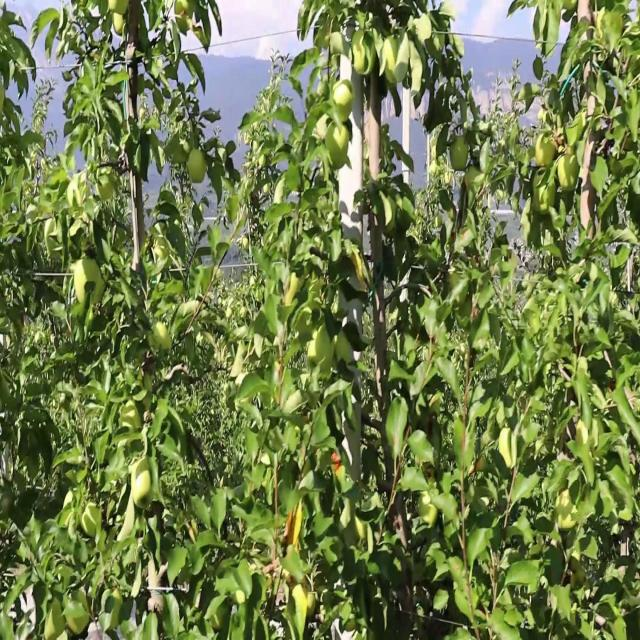apple: (384, 35, 410, 82), (352, 35, 377, 78), (284, 504, 304, 551), (288, 575, 309, 619), (560, 149, 580, 192), (572, 419, 599, 450), (332, 85, 355, 121), (132, 462, 152, 503), (328, 120, 352, 151), (532, 184, 556, 215), (188, 149, 208, 185), (536, 135, 556, 171), (152, 319, 172, 354), (68, 177, 86, 215), (452, 135, 469, 172), (172, 135, 191, 167), (176, 7, 195, 36), (284, 277, 302, 306), (372, 78, 386, 114), (44, 611, 61, 639), (328, 149, 349, 171), (412, 56, 424, 92), (128, 1, 144, 27), (384, 71, 399, 98), (580, 1, 595, 27), (112, 14, 127, 36), (44, 618, 59, 638), (156, 241, 169, 261), (128, 42, 139, 64), (308, 341, 318, 364), (332, 455, 343, 475), (424, 113, 435, 133), (528, 142, 536, 164), (416, 92, 424, 108)
